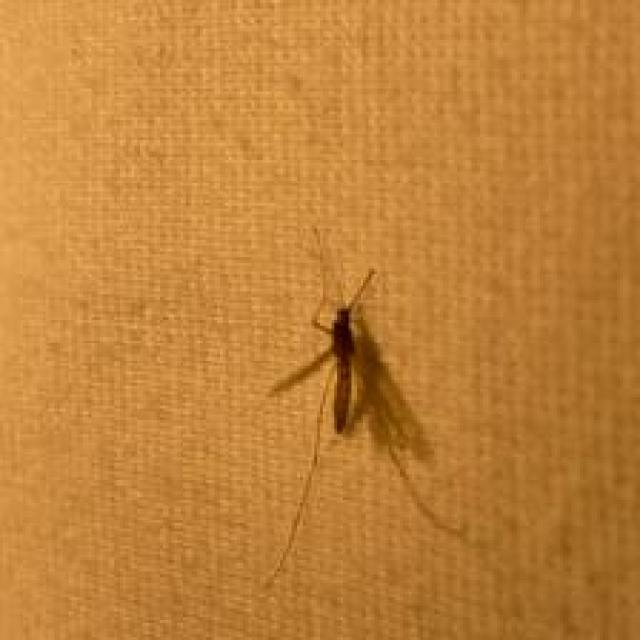Culex: (260, 224, 471, 590)
